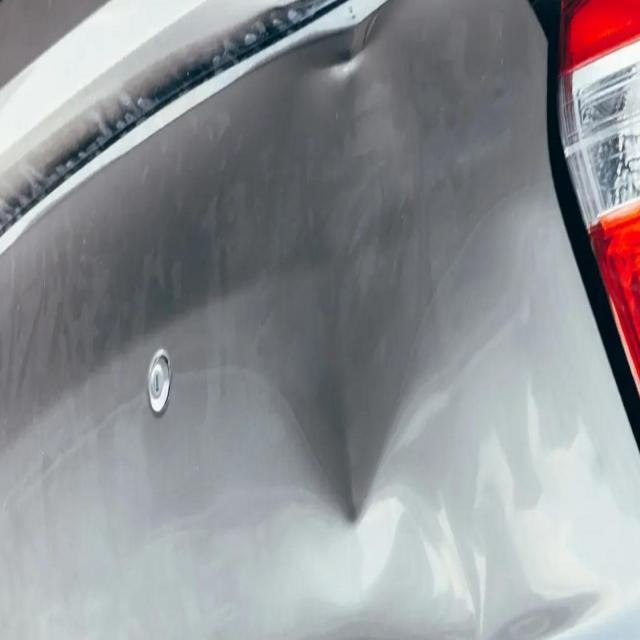dent: (253, 31, 423, 538)
